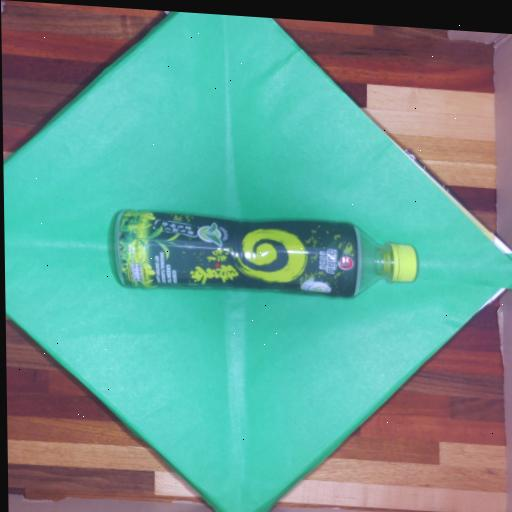bottle: (115, 211, 416, 297)
